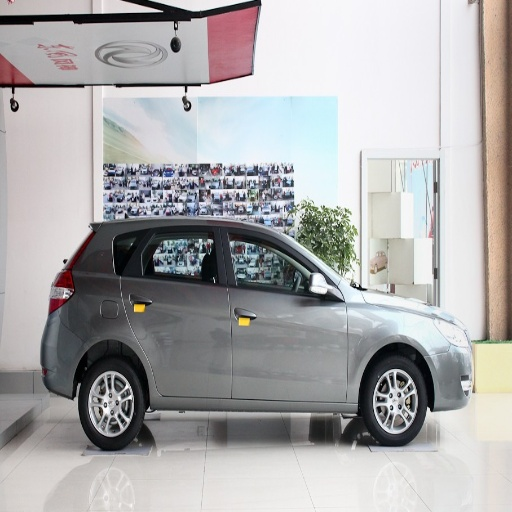back_right_door: (120, 224, 230, 400)
front_right_door: (222, 224, 347, 399)
